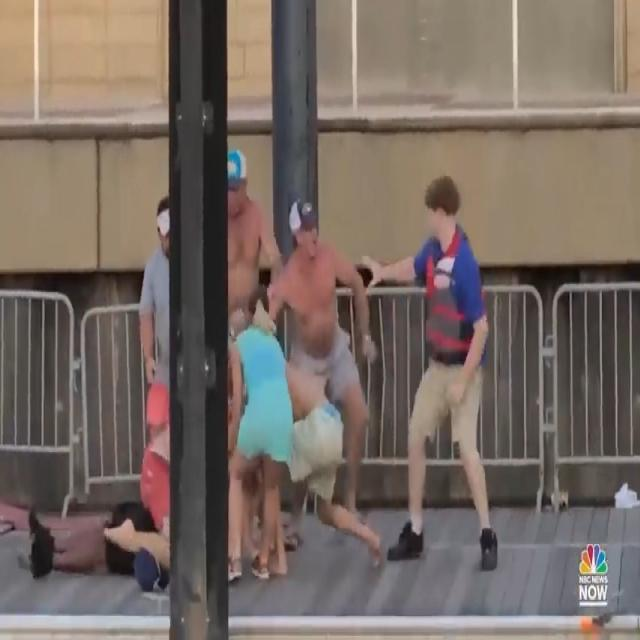fight: (20, 126, 524, 586)
